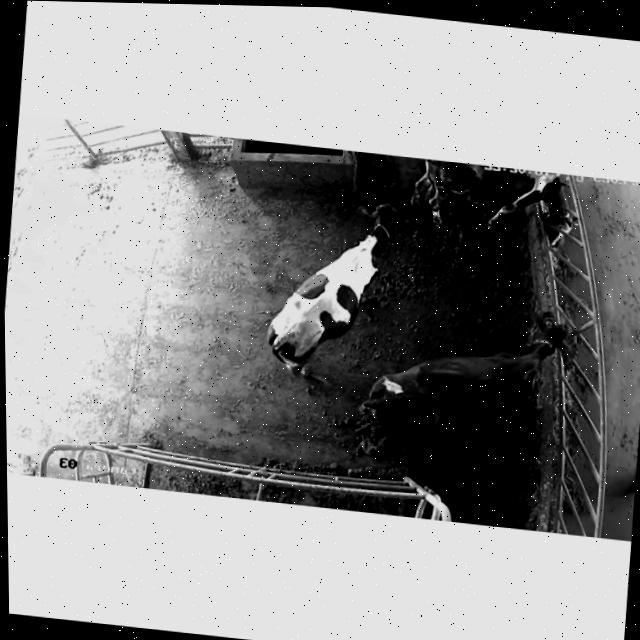stand: (240, 179, 413, 399)
